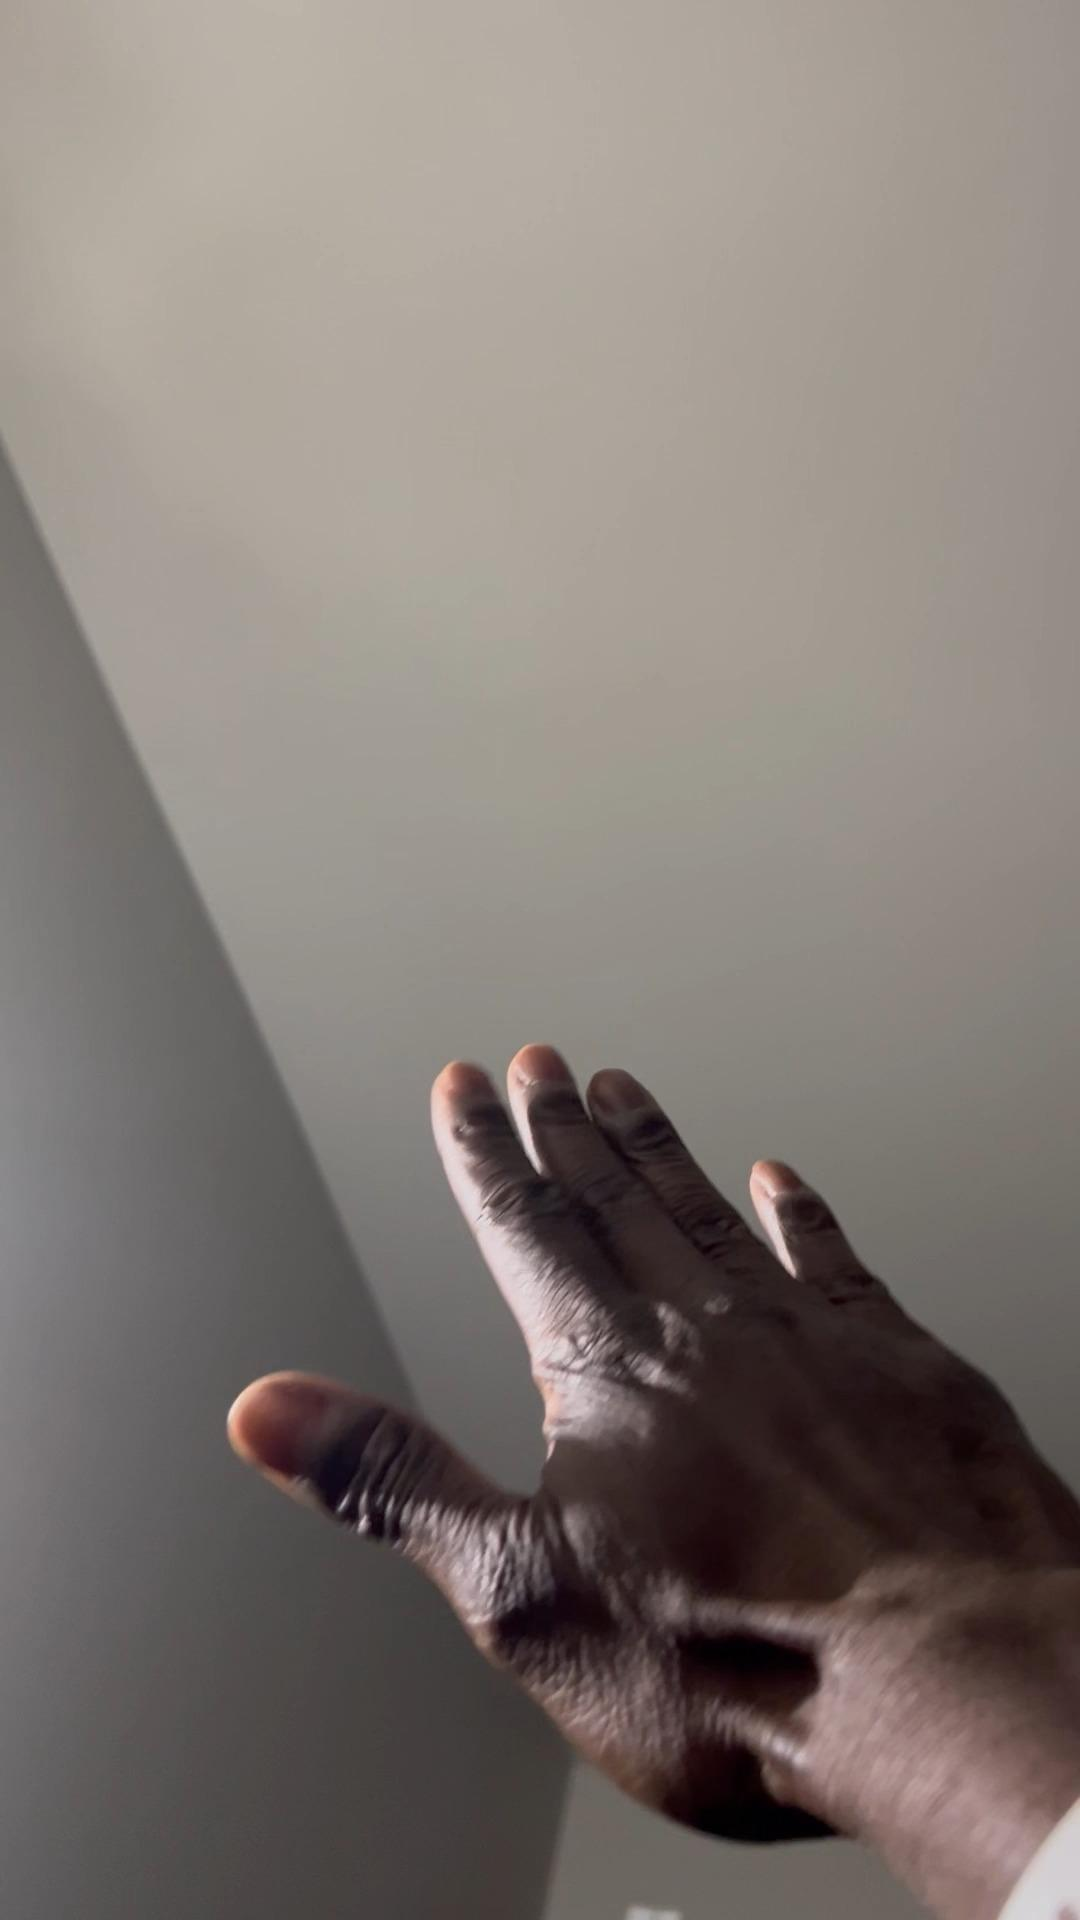Paper: (227, 1040, 1080, 1846)
